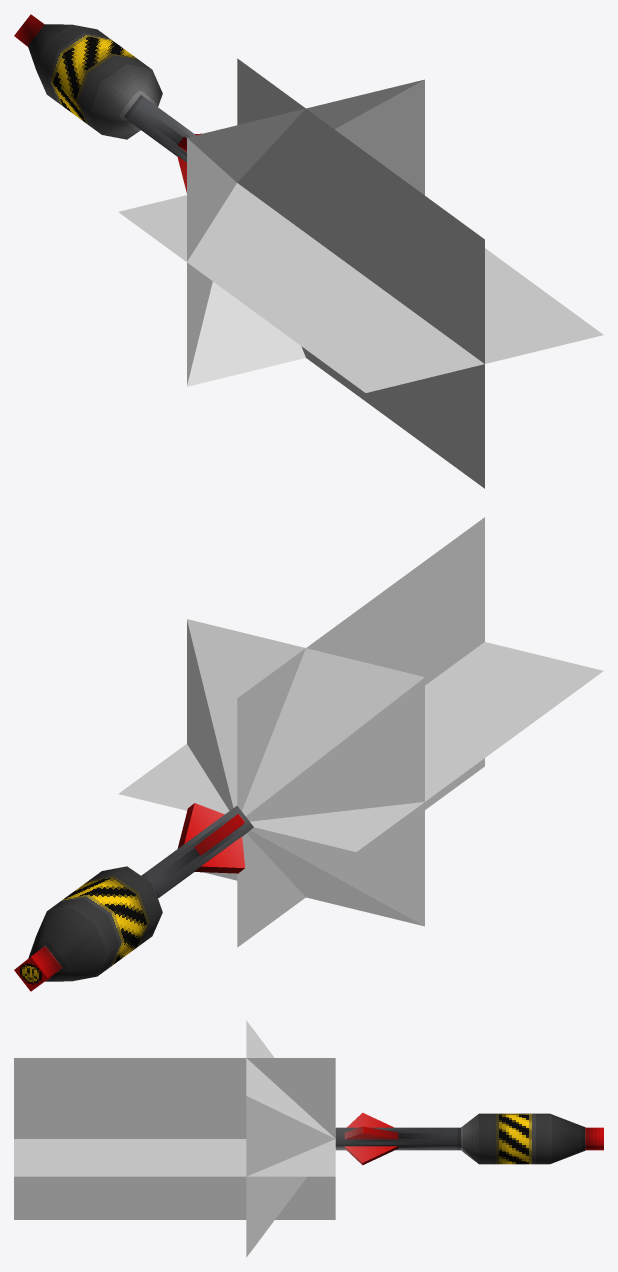
File: missile.glb
3 renders of one model, top to bottom at view 1: azimuth 30°, elevation 25°; view 2: azimuth 150°, elevation 25°; view 3: azimuth 270°, elevation 25°, orthographic. The views are drawn at different scales.
Parts seen in each view (by area): view 1: Plane, missile; view 2: Plane, missile; view 3: Plane, missile.
Part boxes in pixels (bbox=[...]): Plane: bbox=[118, 58, 603, 488]; missile: bbox=[14, 14, 201, 192]; Plane: bbox=[118, 517, 603, 947]; missile: bbox=[14, 803, 253, 991]; Plane: bbox=[14, 1020, 335, 1257]; missile: bbox=[335, 1112, 603, 1165].
Size of the model in its own units: 1 by 1 by 3.3.
Materials: 2 (1 with a texture image).
